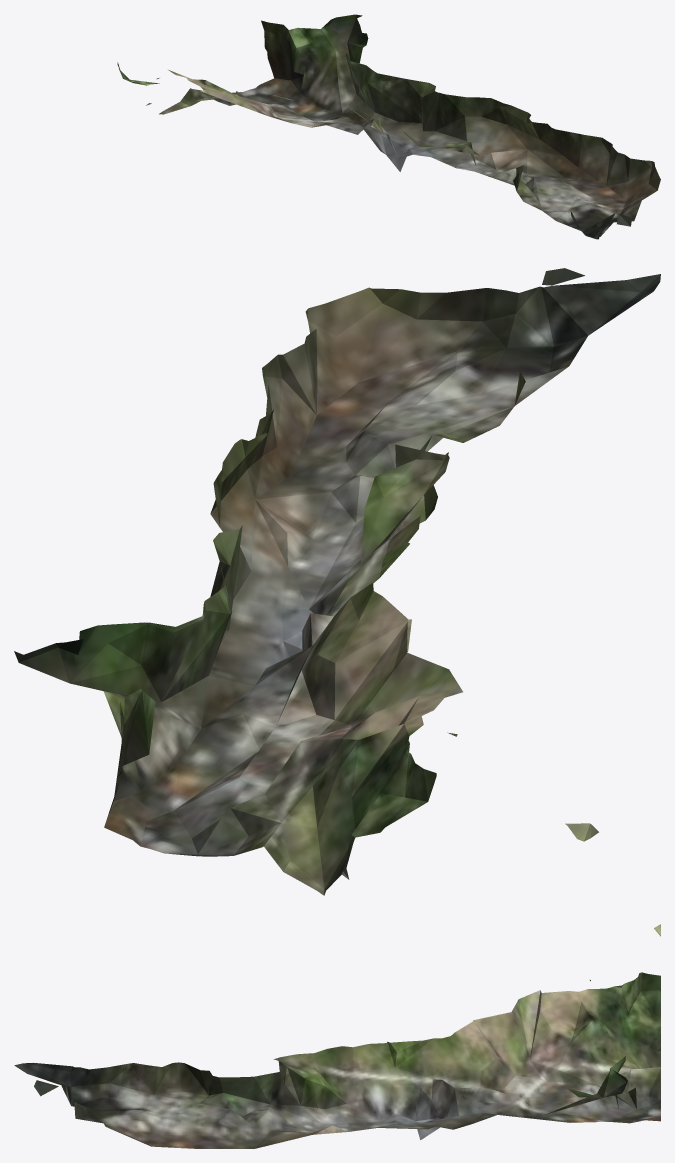
The picture shows the model from 3 angles, top to bottom: view 1: azimuth 30°, elevation 25°; view 2: azimuth 150°, elevation 25°; view 3: azimuth 270°, elevation 25°; orthographic projection. The views are drawn at different scales.
Size of the model in its own units: 32.06 by 5.72 by 43.2.
1 material, 1 textured.
